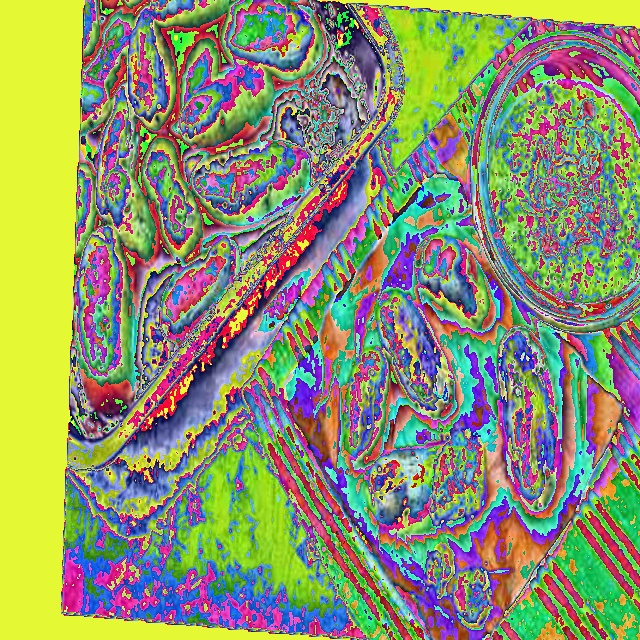background: (42, 63, 492, 627), (31, 56, 454, 598), (67, 187, 563, 512), (153, 80, 639, 303), (72, 0, 325, 419), (144, 251, 486, 535), (83, 99, 496, 330)
